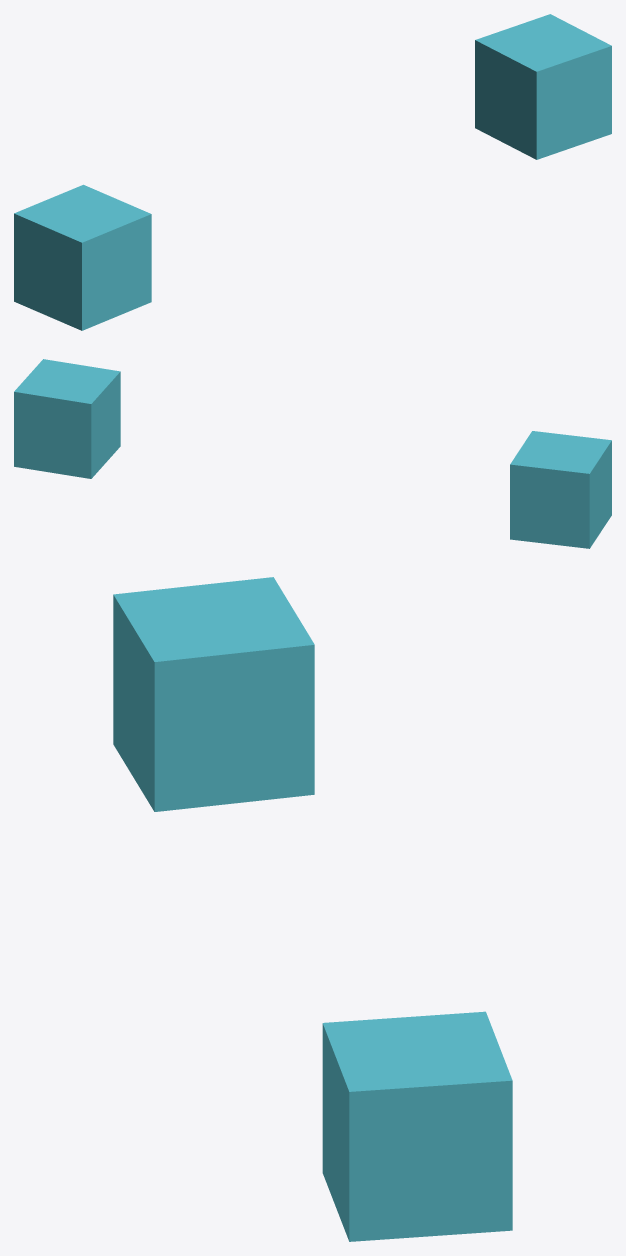
File: 872_chimney.glb
3 renders of one model, top to bottom at view 1: azimuth 30°, elevation 25°; view 2: azimuth 150°, elevation 25°; view 3: azimuth 270°, elevation 25°, orthographic. The views are drawn at different scales.
Visible parts, largest first — view 1: Box002, Box001; view 2: Box001, Box002; view 3: Box002, Box001.
Boxes of the visible parts, <box> form: Box002: <box>14,184,151,330</box>; Box001: <box>475,14,611,159</box>; Box001: <box>14,359,120,478</box>; Box002: <box>510,431,611,548</box>; Box002: <box>113,577,314,811</box>; Box001: <box>322,1011,512,1241</box>.
Size of the model in its own units: 6.11 by 0.8302 by 2.
